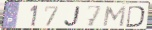1: (29, 5, 40, 28)
7: (86, 5, 103, 28), (43, 5, 59, 27)
D: (125, 5, 146, 28)
J: (63, 6, 82, 27)
M: (102, 6, 127, 28)
